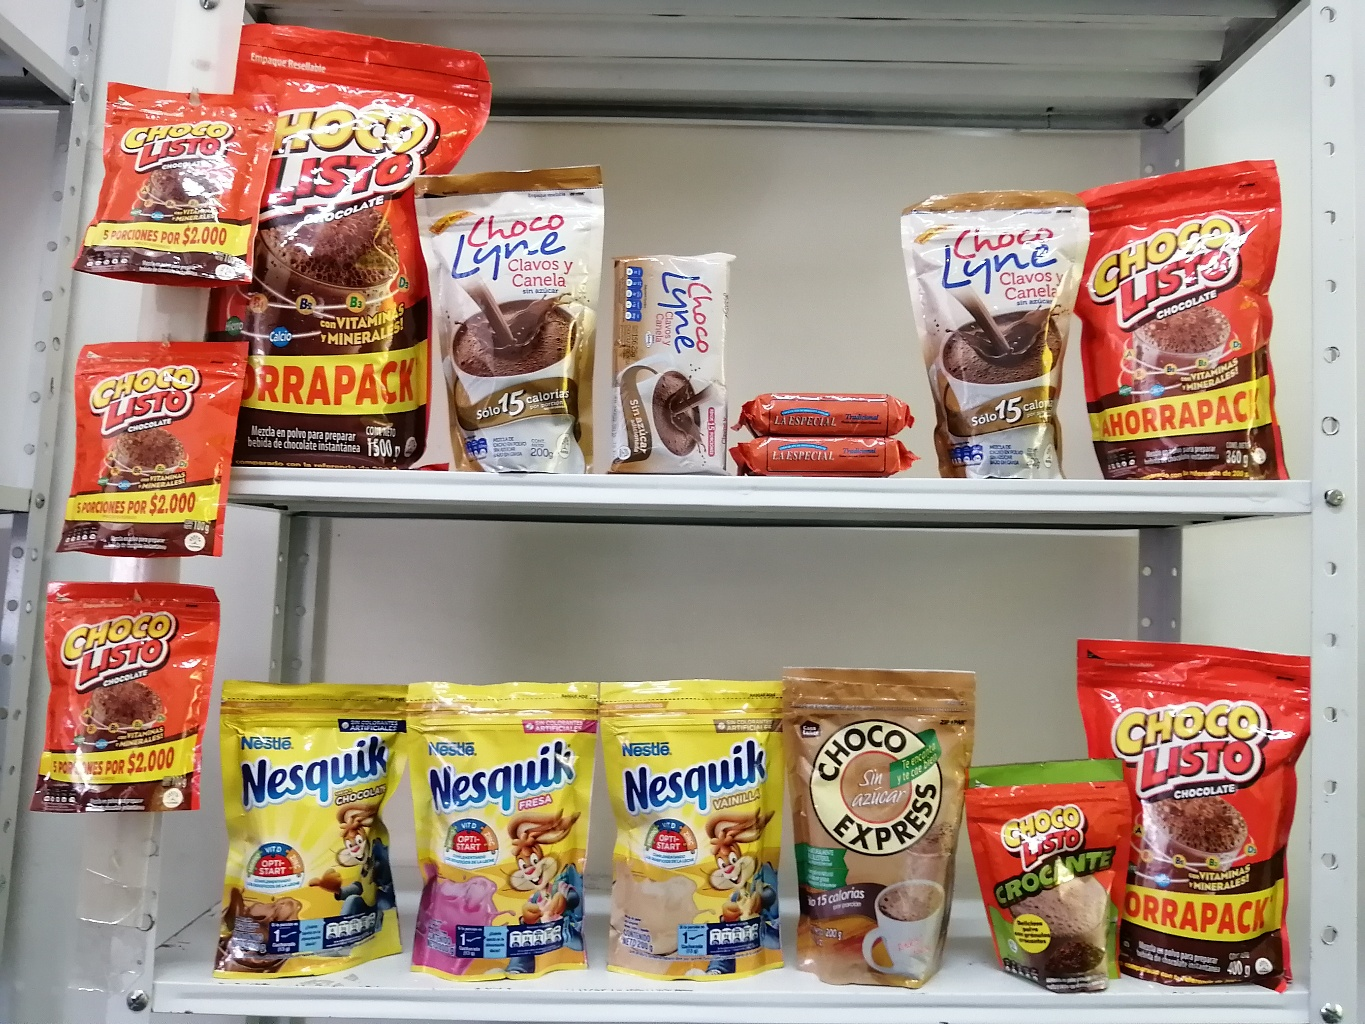COL0170102DYP10000: (959, 760, 1139, 986)
COL0170103DYP1,500: (215, 22, 488, 466)
COL0170103DYP10000: (77, 85, 276, 296)
COL0170103DYP36000: (1086, 159, 1288, 477)
COL0170103DYP40000: (1072, 630, 1308, 994)
COL0170303DYP20000: (217, 670, 410, 983)
COL0170305DYP20000: (399, 683, 588, 979)
COL0170306DYP20000: (588, 672, 781, 977)
